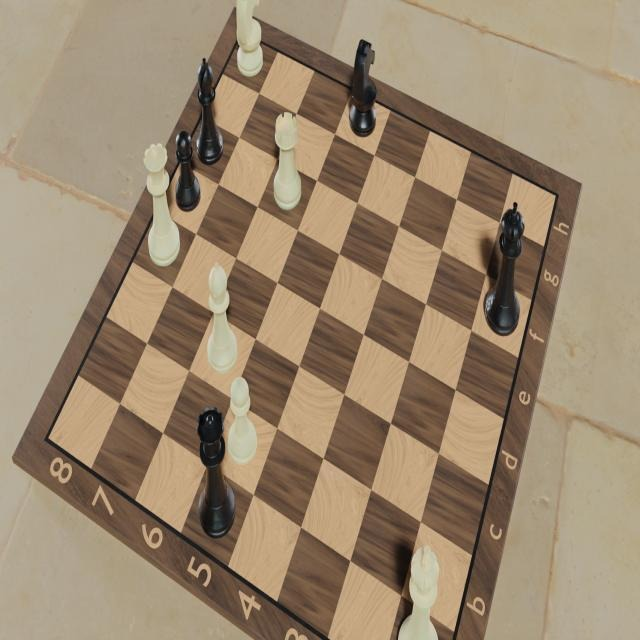black-bishop: (195, 52, 227, 168)
black-king: (481, 195, 529, 343)
black-knight: (346, 33, 381, 143)
black-pawn: (171, 126, 204, 214)
black-queen: (197, 402, 239, 545)
white-bishop: (202, 258, 241, 379)
white-king: (393, 542, 443, 640)
white-knight: (232, 0, 268, 84)
white-pawn: (224, 372, 260, 472)
white-queen: (139, 138, 185, 276)
white-rook: (270, 105, 306, 215)
